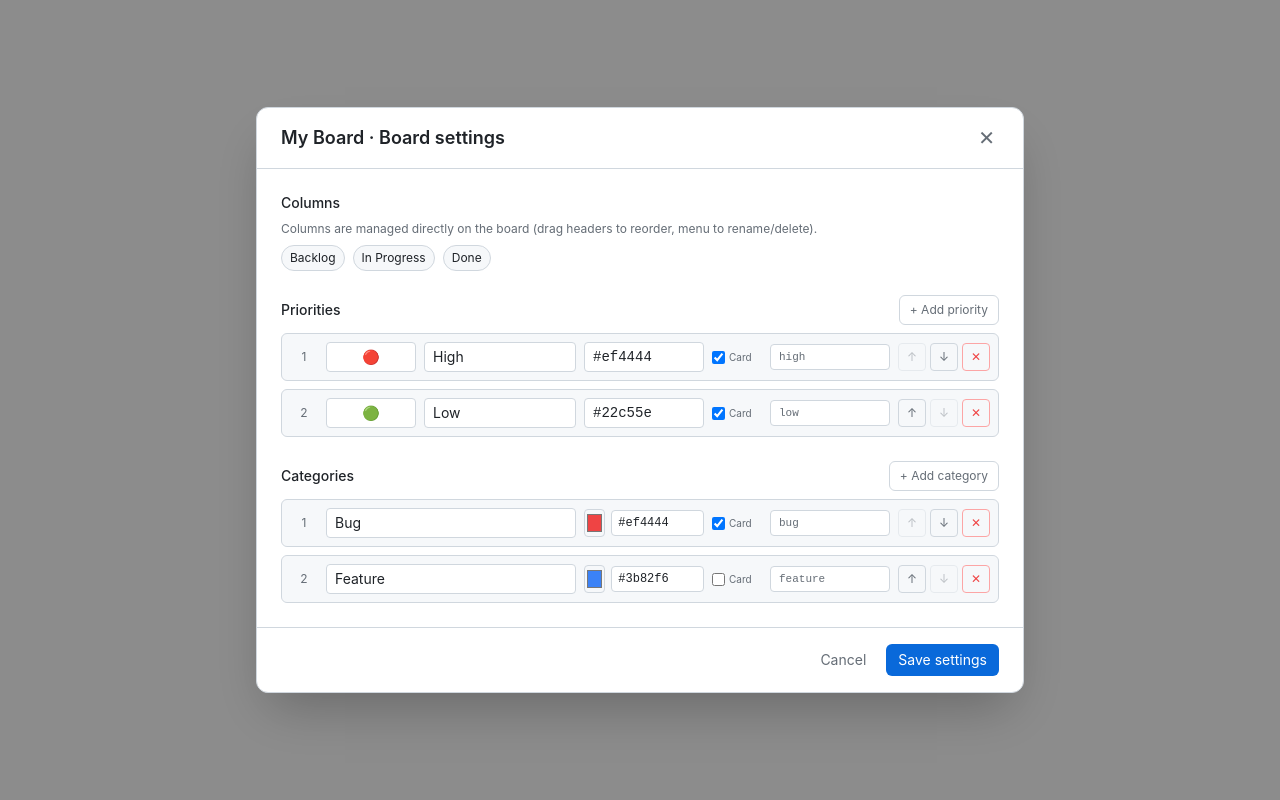
Test: categories section › delete category removes a row
Click the button titled "Delete category" in the row of "bug". click: click(976, 523)
box: top-left (962, 509), bottom-right (990, 537)
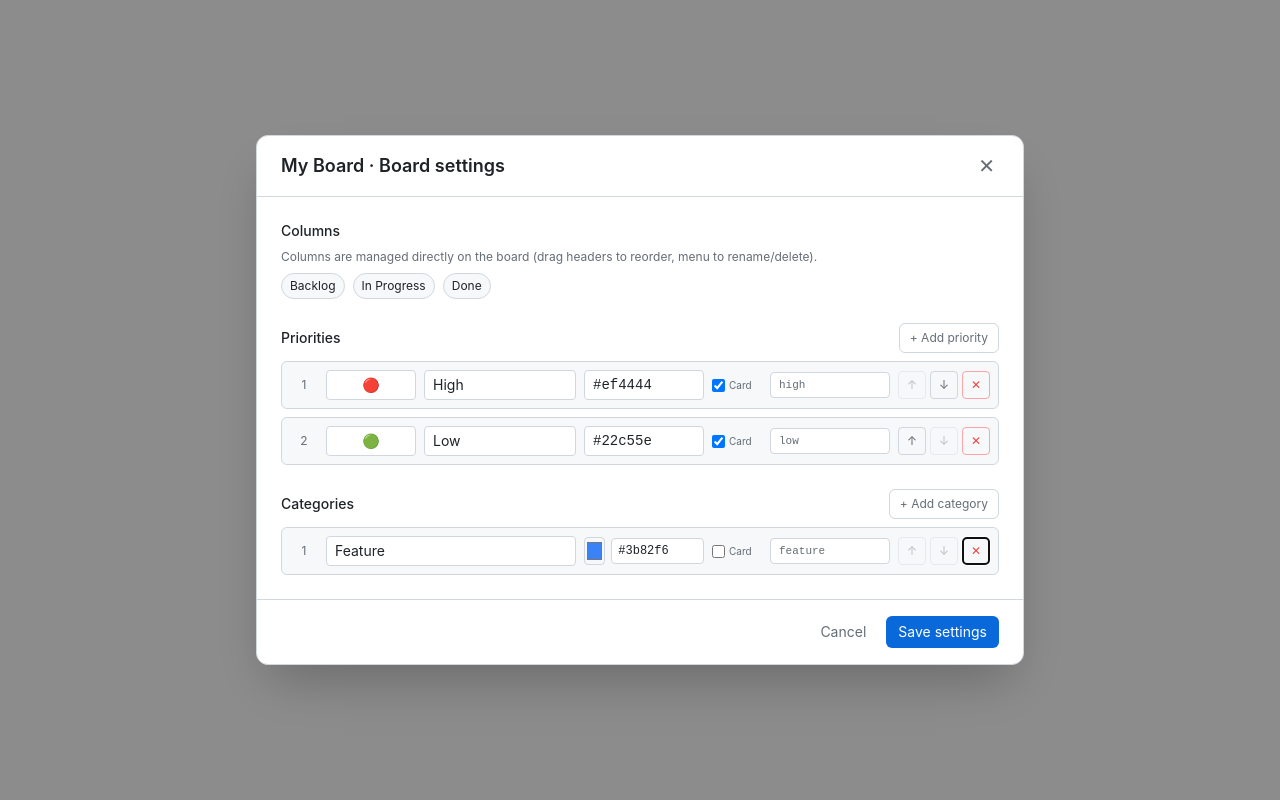
Expected: the number of fields with placeholder "Category label" is 1, top-left (326, 536), bottom-right (576, 566)
